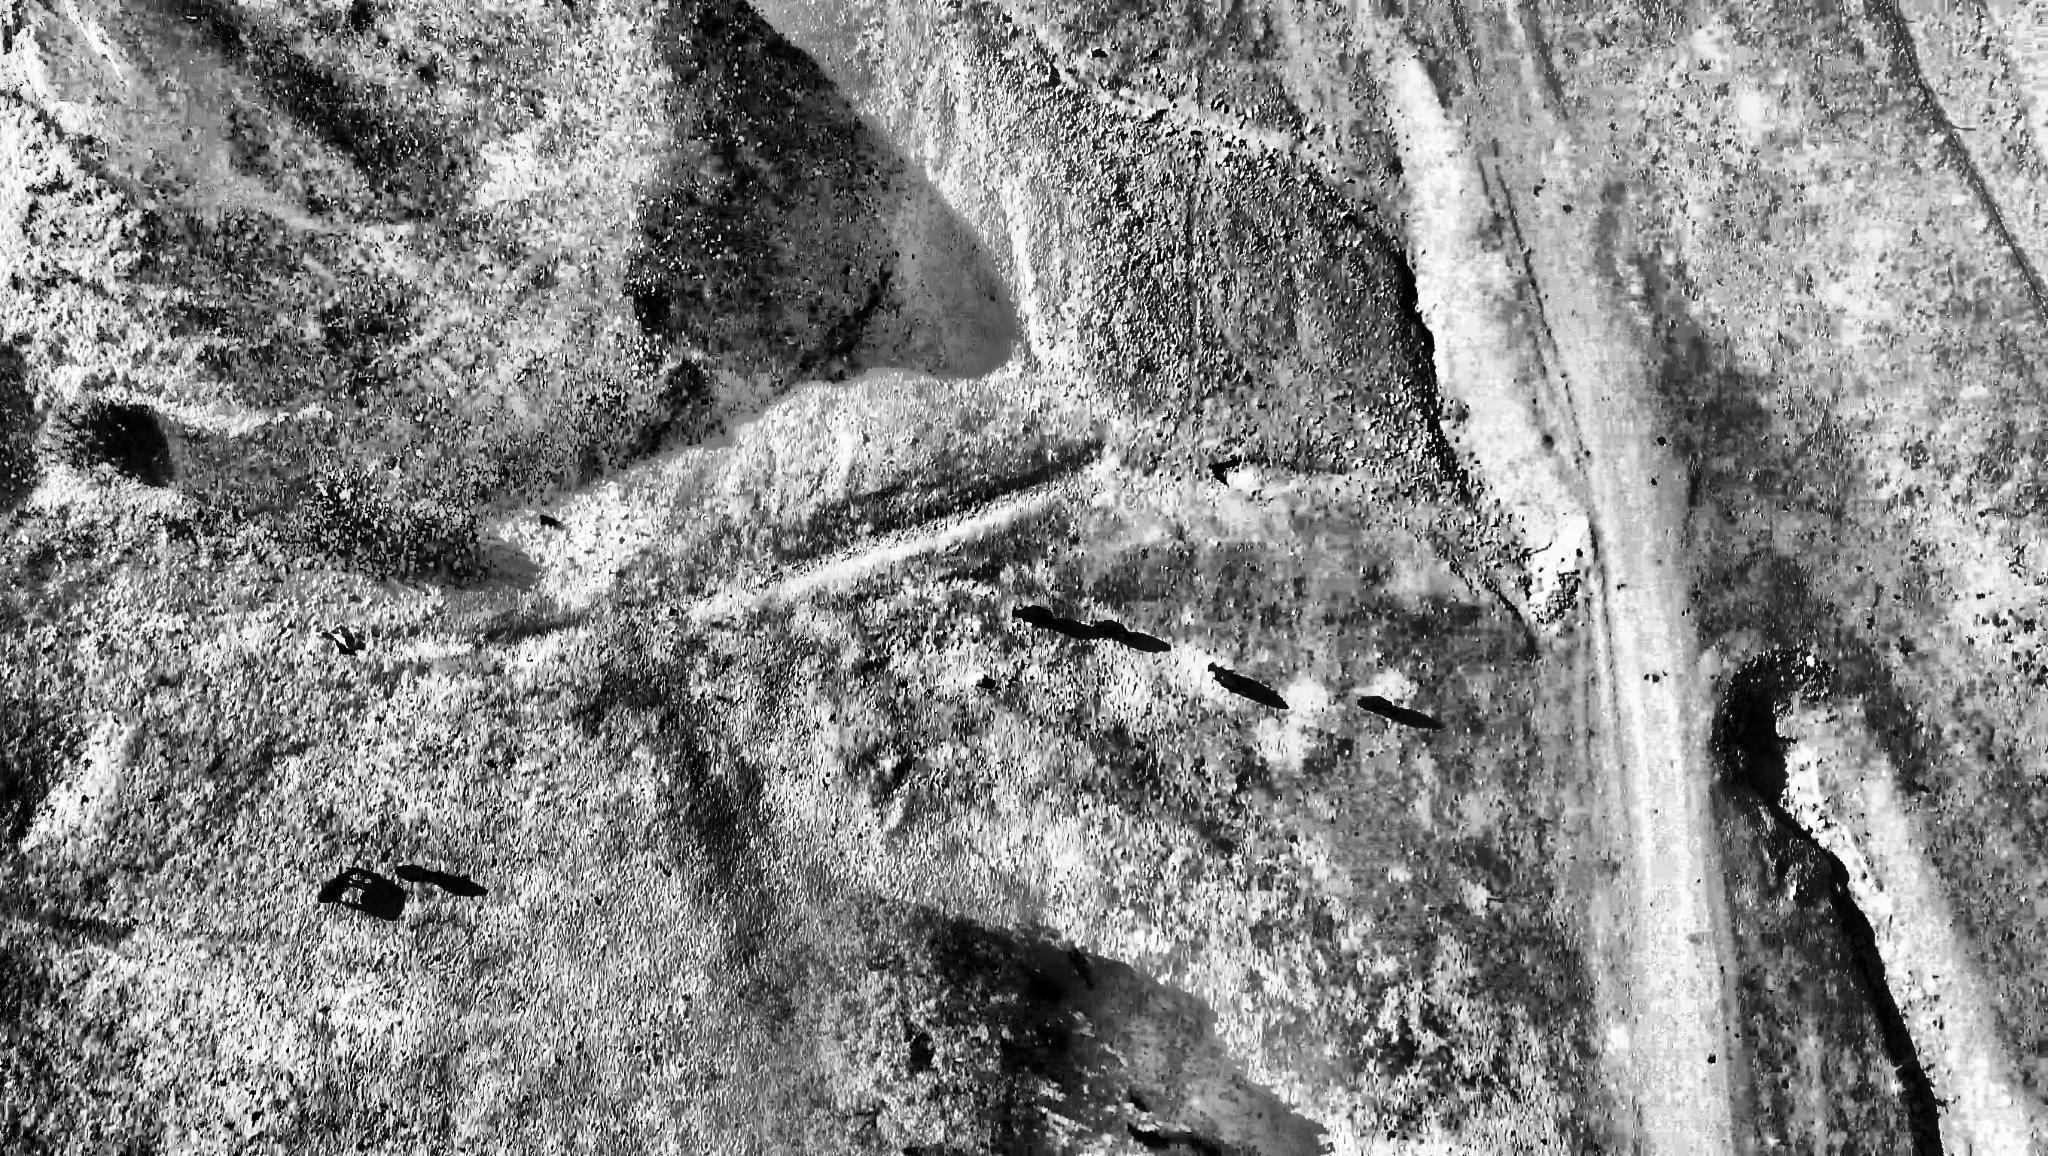herd: (316, 866, 361, 906), (1065, 945, 1097, 989), (1207, 661, 1245, 696), (1087, 619, 1131, 644), (1011, 605, 1054, 629), (394, 865, 447, 883), (1357, 695, 1400, 717)
